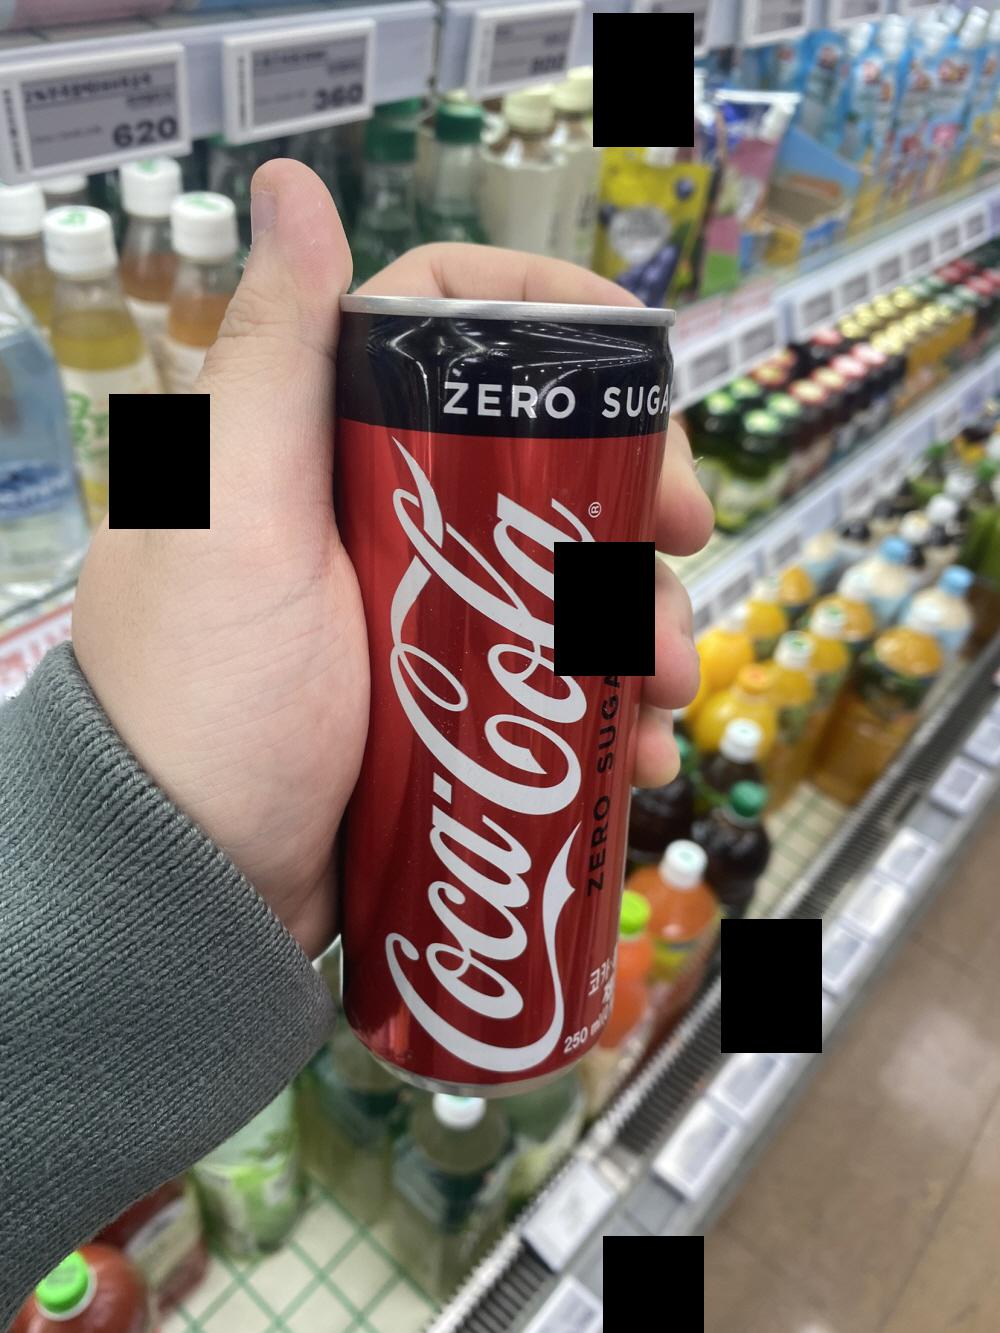cocacola_zero: (331, 291, 675, 1089)
